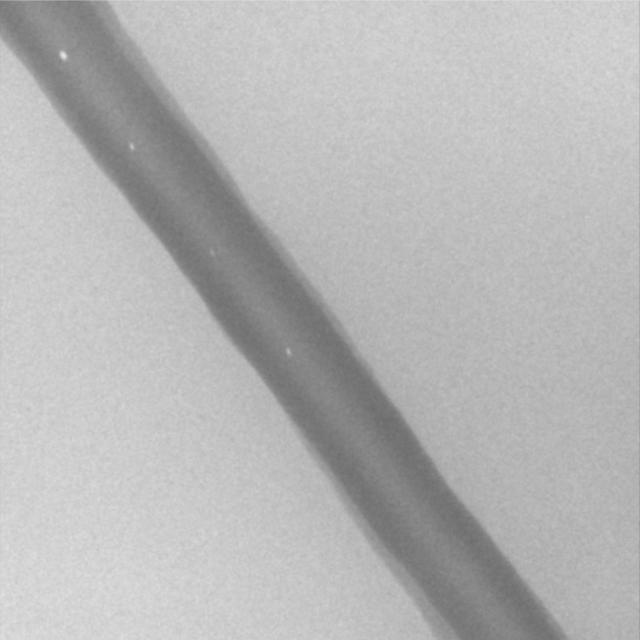air hole: (58, 49, 68, 63), (128, 141, 136, 153), (208, 249, 217, 259), (285, 347, 293, 357)
